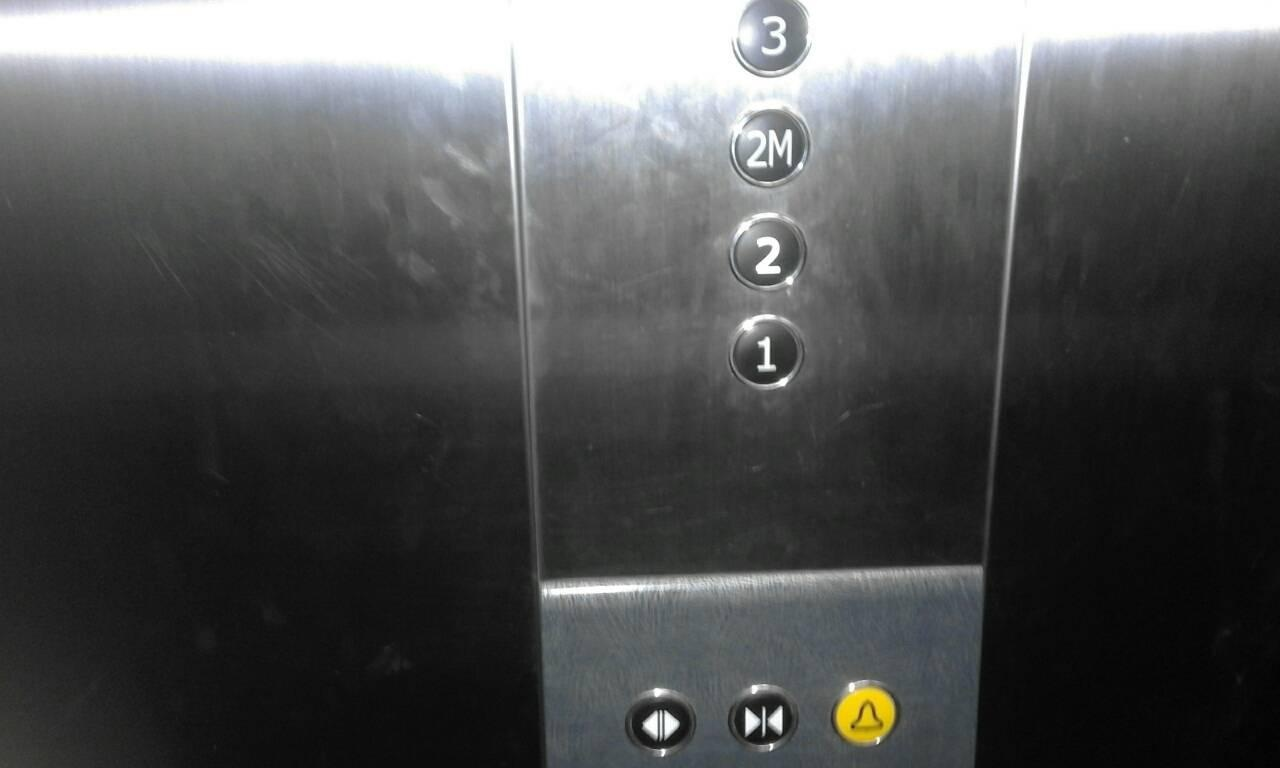1: (725, 311, 808, 393)
2: (725, 210, 808, 292)
2M: (725, 100, 813, 191)
3: (727, 1, 815, 82)
alarm: (826, 678, 904, 751)
close: (725, 681, 803, 754)
open: (620, 686, 698, 759)
